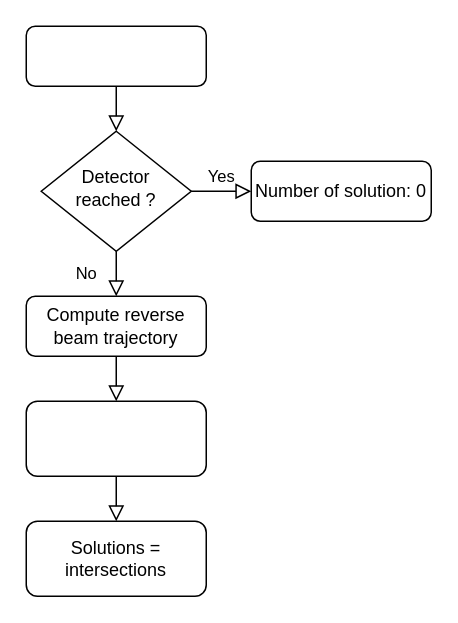
Some shapes in this 458 by 623 pixel diagram are drawn without their labels. Each missing label, with the box of its shape:
Compute intersections between trajectories: (25, 400, 206, 476)
Compute laser beam trajectory: (25, 25, 206, 86)
